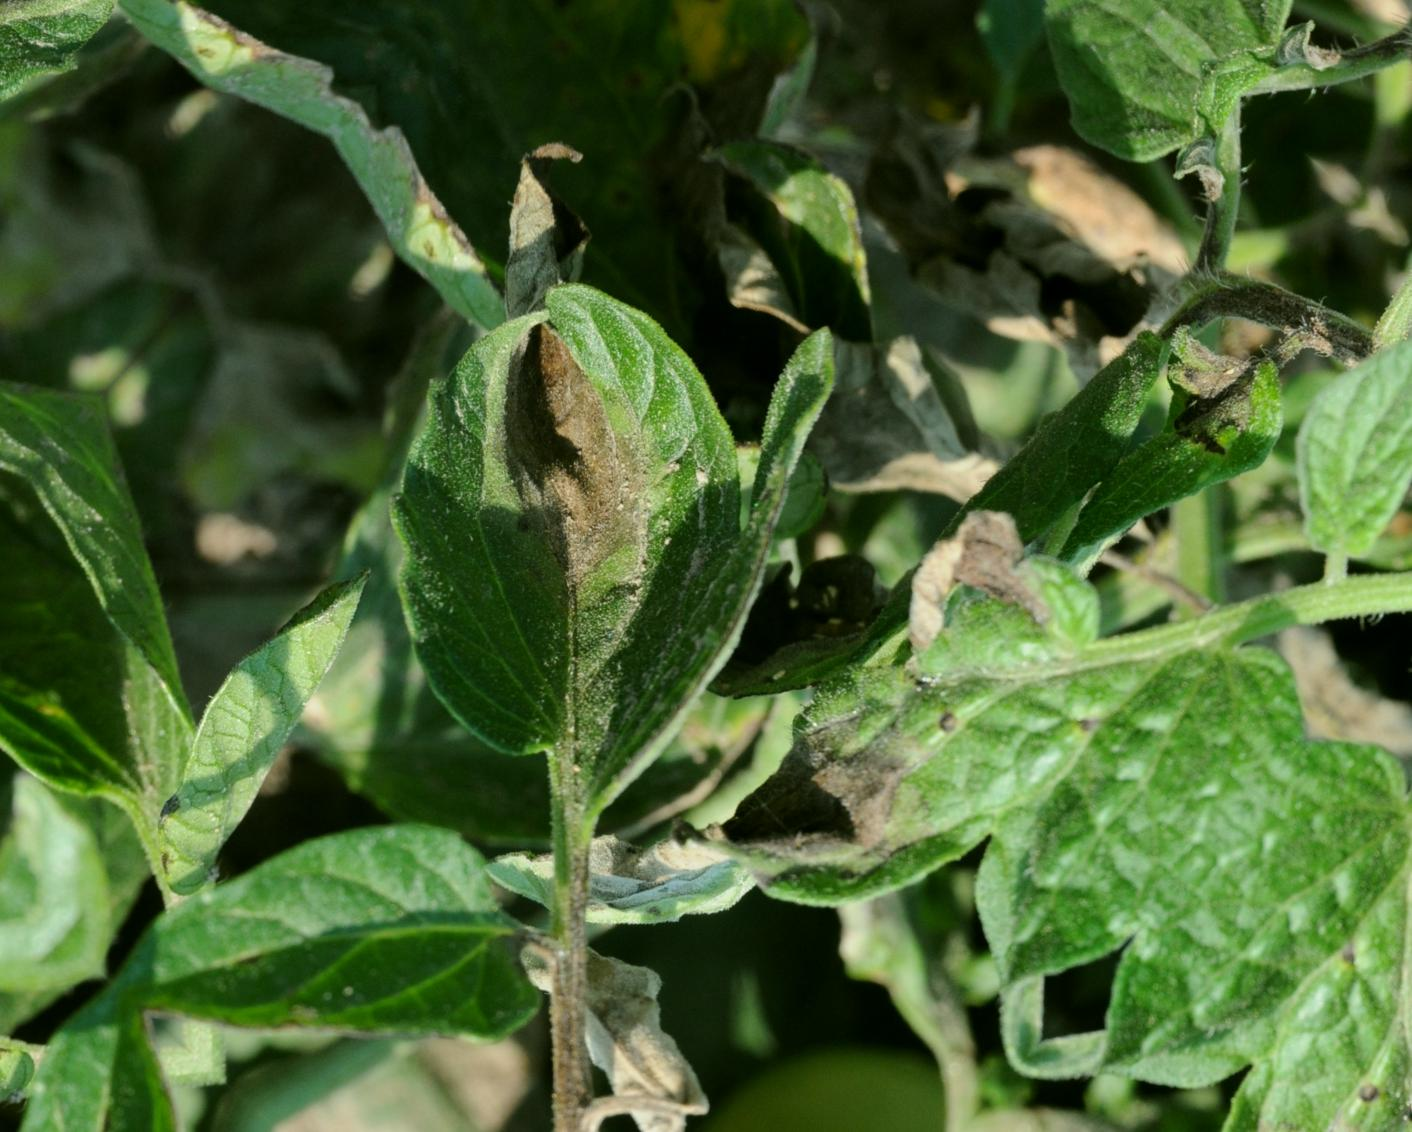Tomato leaf late blight: (231, 176, 901, 846), (671, 418, 1264, 1026)
